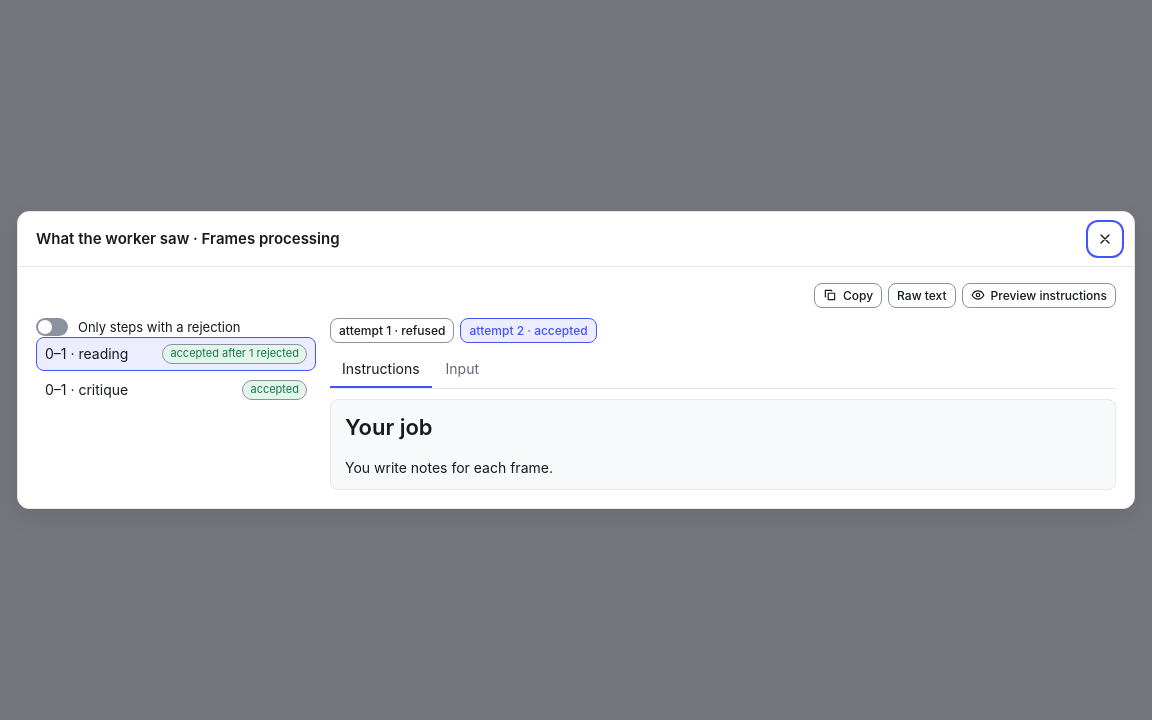
Test: WorkerView › previews each instruction set of the phase from the current files, and says why one cannot be built
This screenshot has width=1152, height=720.
Click the button "Preview instructions".
click(1039, 295)  # box [962,283,1116,308]
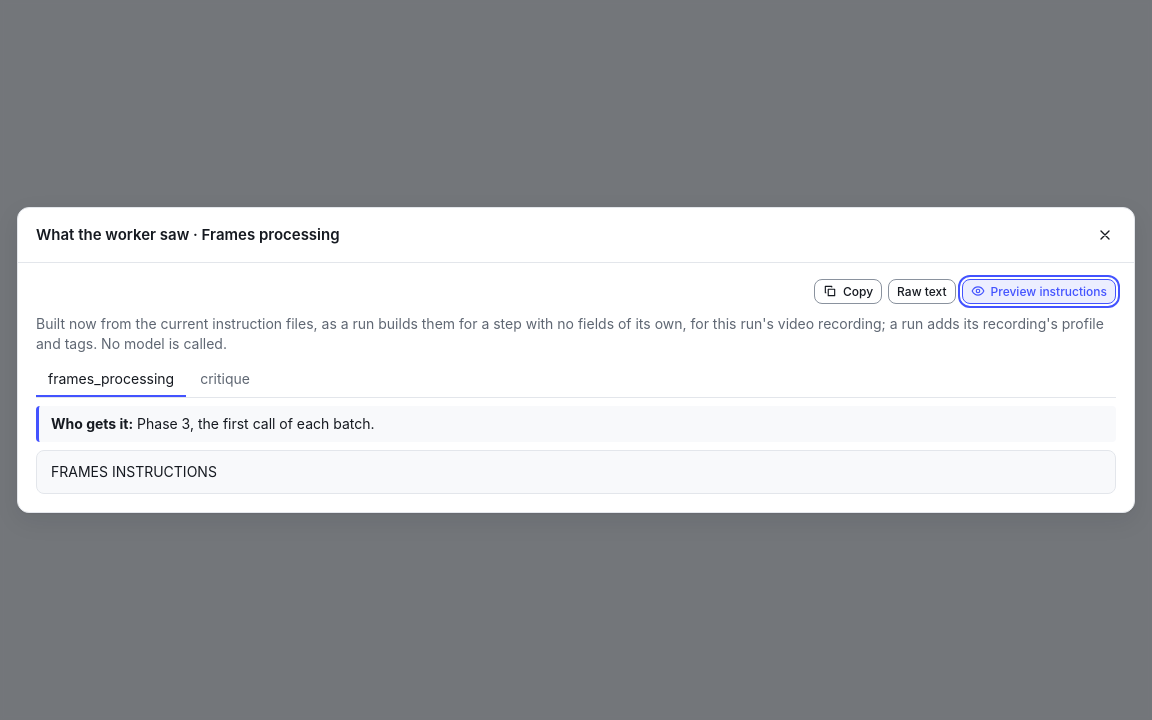
Now the text "FRAMES INSTRUCTIONS" is shown, box [51,463,217,480]
Now the text "Phase 3, the first call of each batch." is shown, box [137,415,374,432]
Click the tab "critique".
click(225, 380)  # box [188,362,262,397]
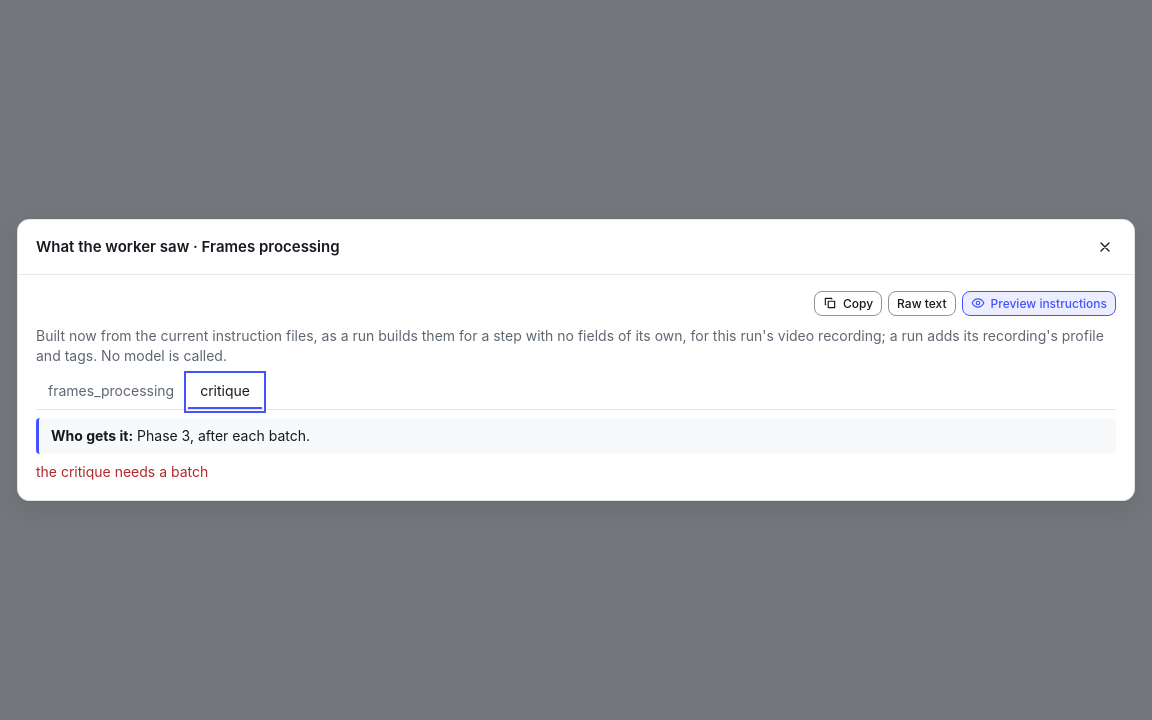
Now the text "the critique needs a batch" is shown, box [36,463,208,480]
